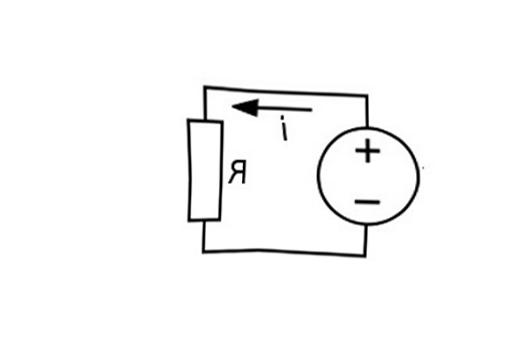Battery: (302, 116, 438, 238)
